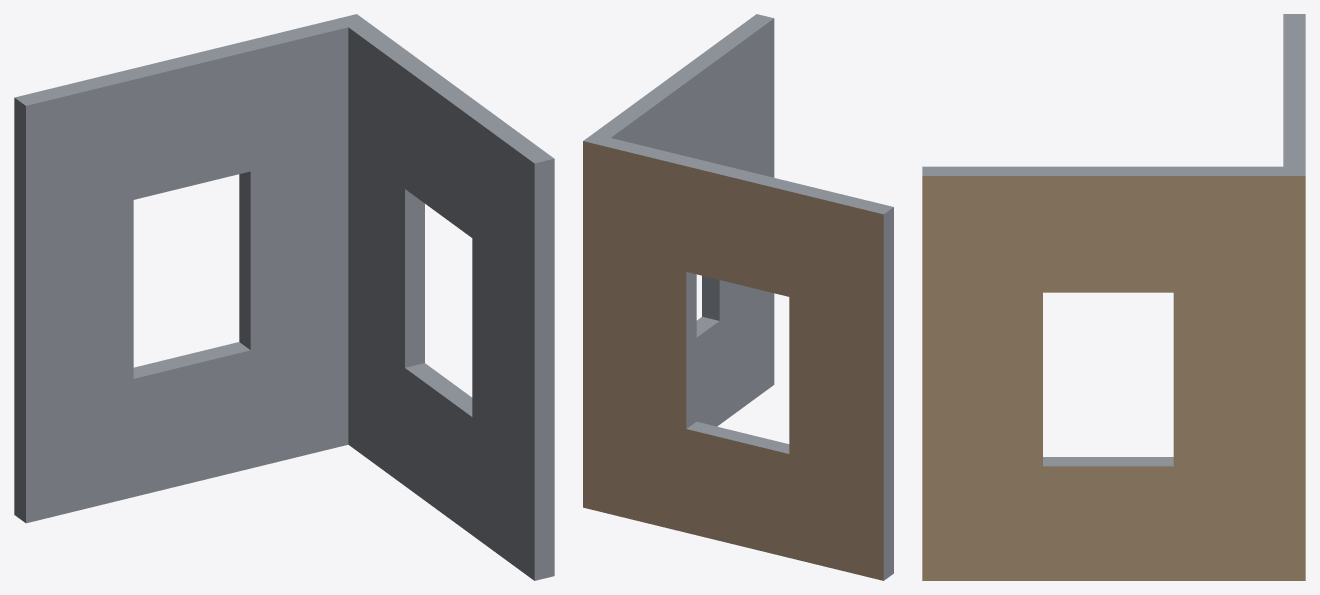
Rendered from Wall2_C6_09.fbx.
3 renders of one model, left to right at view 1: azimuth 30°, elevation 25°; view 2: azimuth 150°, elevation 25°; view 3: azimuth 270°, elevation 25°, orthographic. The views are drawn at different scales.
Parts seen in each view (by area): view 1: Wall2_C6_09; view 2: Wall2_C6_09; view 3: Wall2_C6_09.
Boxes of the visible parts, x1,y1,x2,y2 form: Wall2_C6_09: [14, 14, 554, 580]; Wall2_C6_09: [583, 14, 893, 580]; Wall2_C6_09: [922, 14, 1305, 580].
Bounding box in the file's own units: 258 × 300 × 258.
